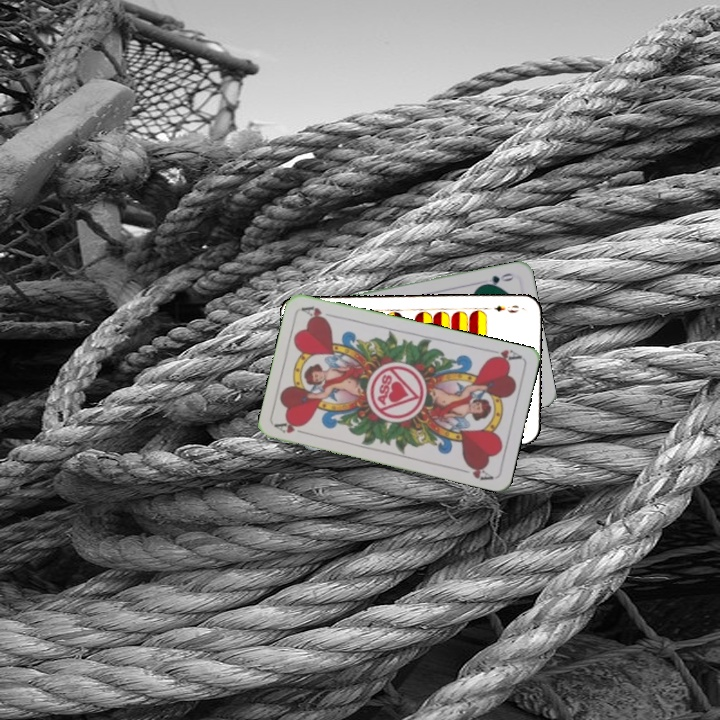E9: (490, 301, 521, 315)
GO: (478, 269, 518, 289)
HA: (483, 345, 524, 366), (272, 418, 312, 438)
